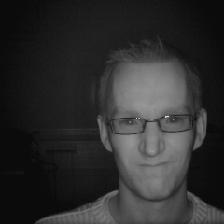happy: (104, 43, 213, 199)
